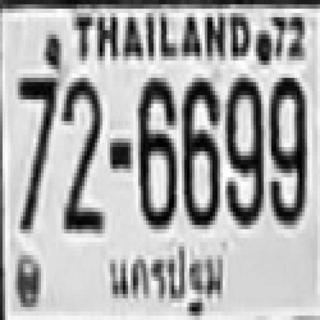N02: (60, 76, 101, 231)
N06: (136, 74, 174, 225), (182, 74, 218, 225)
N07: (15, 73, 56, 229)
N09: (224, 74, 262, 220), (269, 74, 305, 220)
P28: (104, 243, 228, 316)
